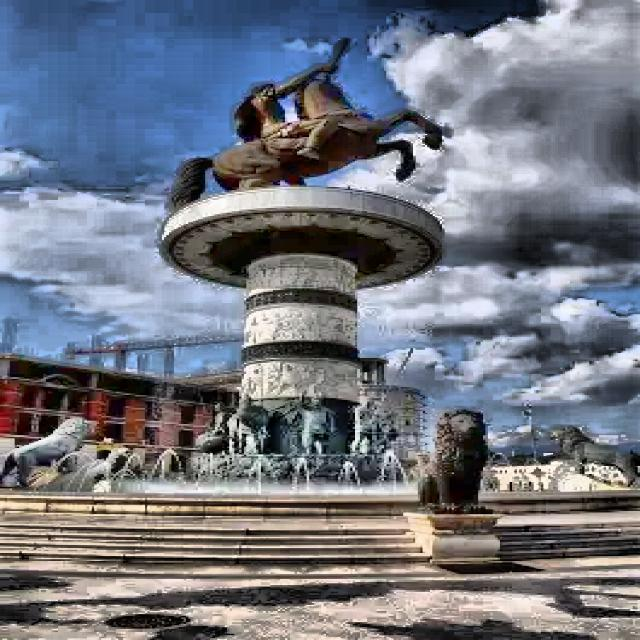alexander the great monument: (147, 29, 440, 478)
